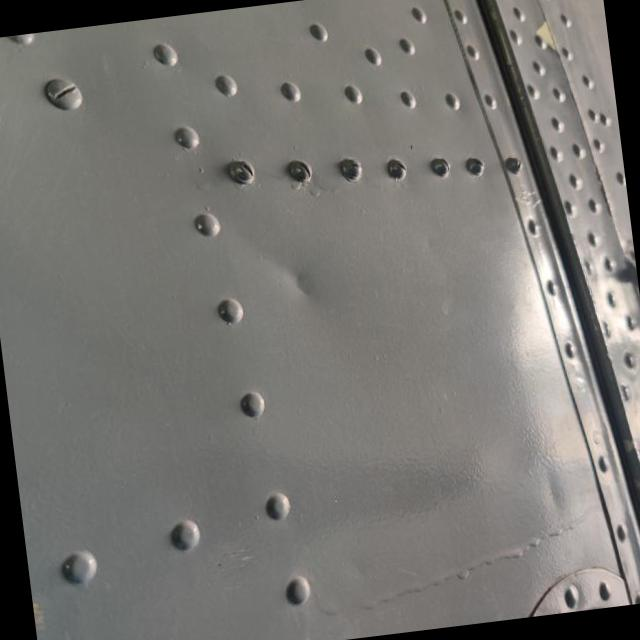Dent: (268, 258, 322, 317)
